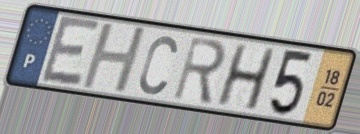5: (265, 47, 318, 119)
C: (136, 32, 179, 97)
E: (38, 13, 103, 88)
H: (78, 22, 150, 95), (213, 42, 278, 113)
R: (170, 34, 228, 106)
